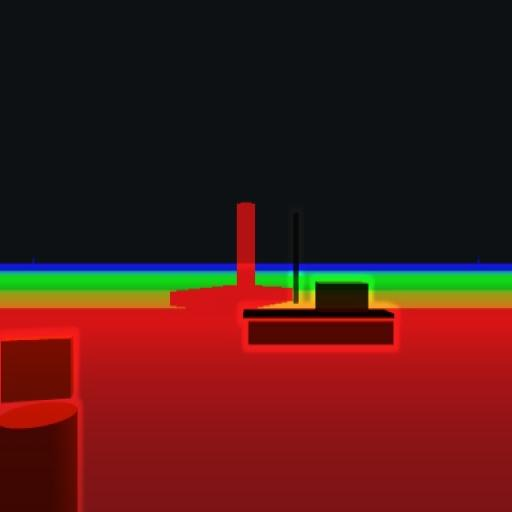vessel: (245, 211, 396, 357)
